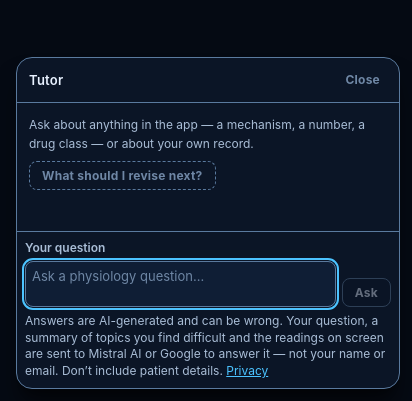
Test: ChatPanel › surfaces an error the model itself reported mid-stream
Type "anything" into the text box labelled "Your question" at (180, 284), box top-left (25, 261), bottom-right (336, 307)
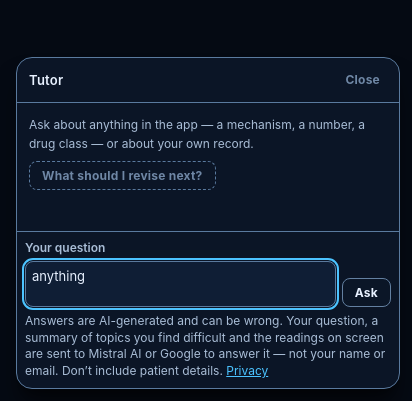
Click the button "Ask" at (366, 292), box top-left (342, 278), bottom-right (391, 307)
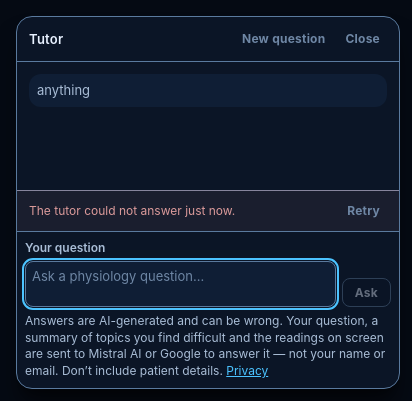
Now the message "The tutor could not answer just now. Retry" is shown, box top-left (17, 190), bottom-right (399, 231)
